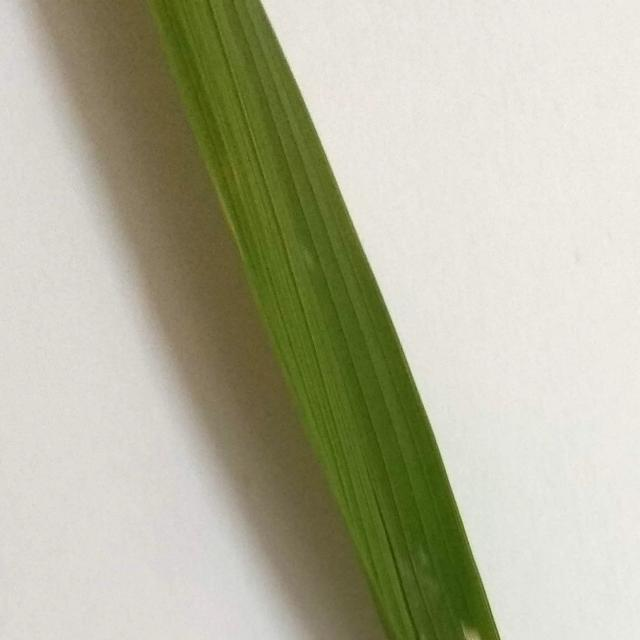Rice_Healthy: (150, 0, 500, 640)
